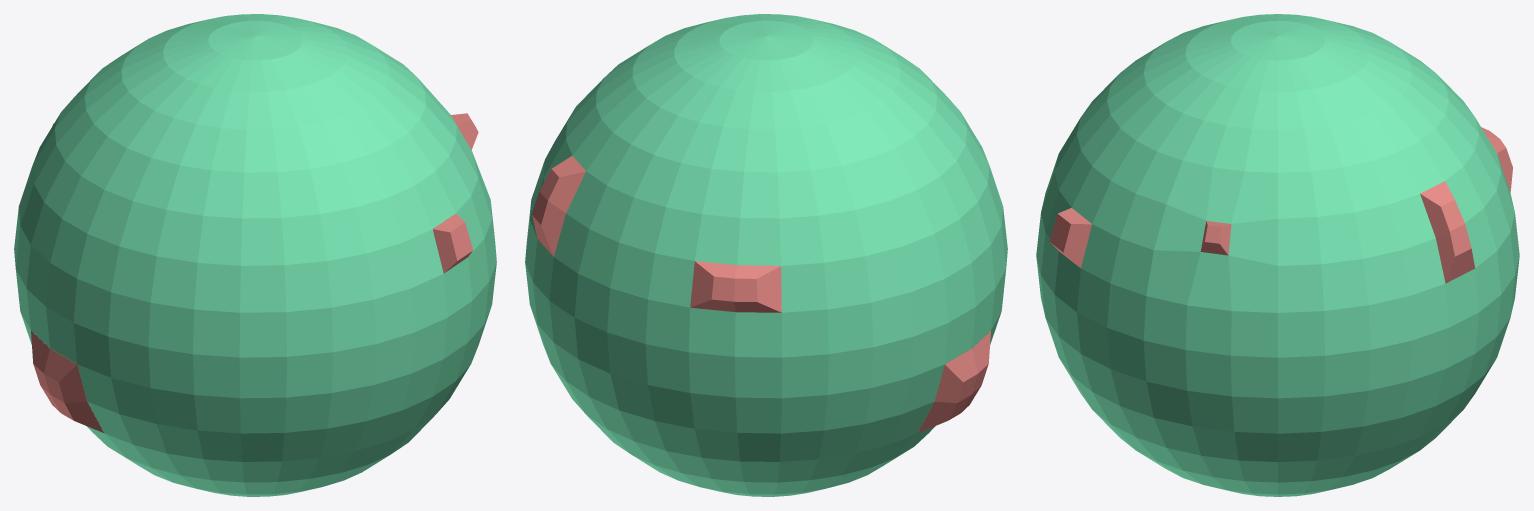
Rendered from planettwo.glb.
The picture shows the model from 3 angles, left to right: view 1: azimuth 30°, elevation 25°; view 2: azimuth 150°, elevation 25°; view 3: azimuth 270°, elevation 25°; orthographic projection.
Parts seen in each view (by area): view 1: Sphere; view 2: Sphere; view 3: Sphere.
Boxes of the visible parts, <box> form: Sphere: <box>14,14,496,496</box>; Sphere: <box>525,14,1007,496</box>; Sphere: <box>1036,14,1519,496</box>.
Bounding box in the file's own units: 50.27 × 50 × 50.
